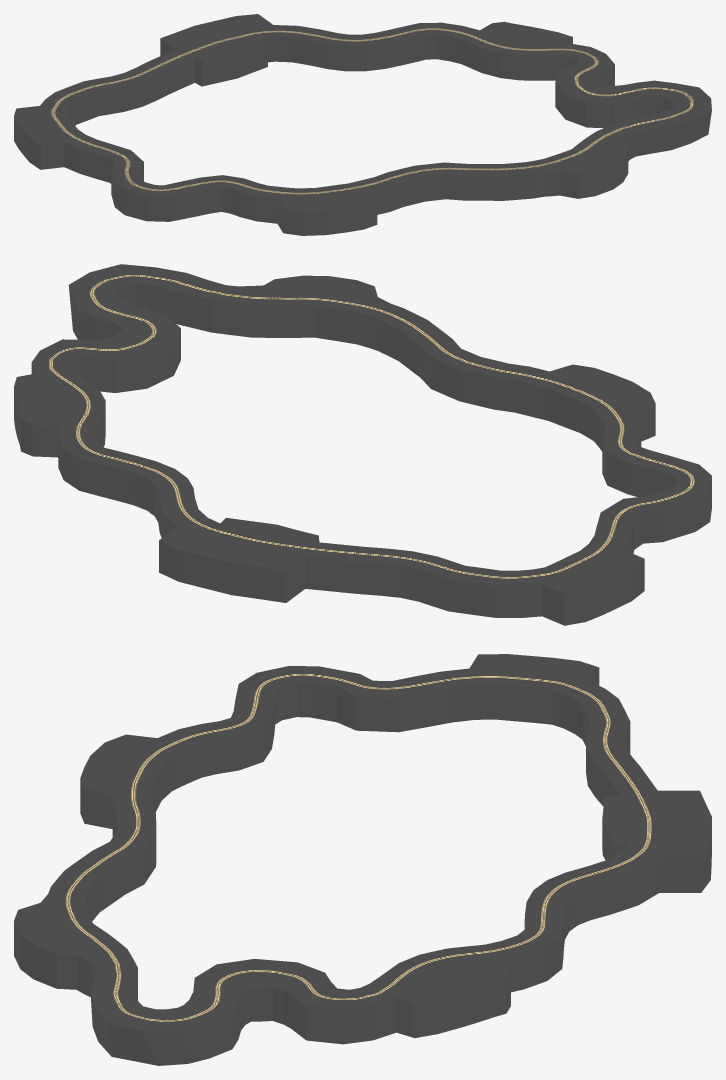
File: road.glb
3 views of the same model, one above another, from view 1: azimuth 30°, elevation 25°; view 2: azimuth 150°, elevation 25°; view 3: azimuth 270°, elevation 25° (orthographic). The views are drawn at different scales.
Visible parts, largest first — view 1: road; view 2: road; view 3: road.
Part boxes in pixels (bbox=[...]): road: bbox=[14, 14, 711, 235]; road: bbox=[14, 264, 711, 625]; road: bbox=[14, 654, 711, 1065].
Size of the model in its own units: 162 by 7.24 by 126.
1 material, 1 textured.
